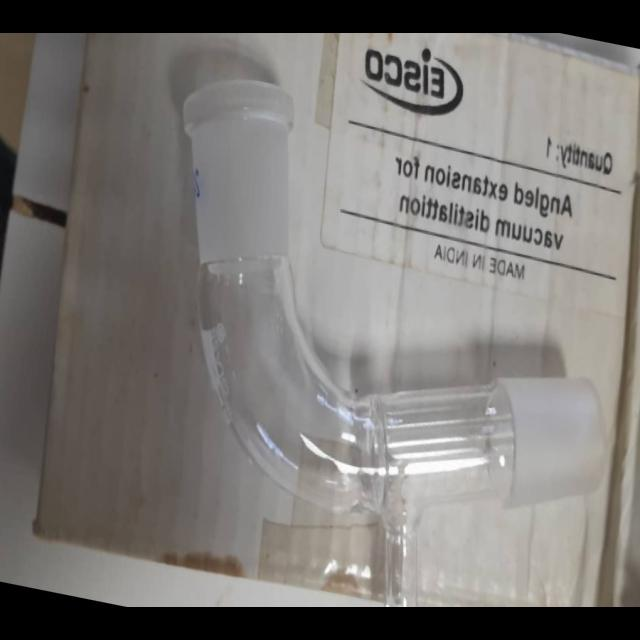Angled Extension for Vacuum Distillation: (142, 61, 634, 607)
